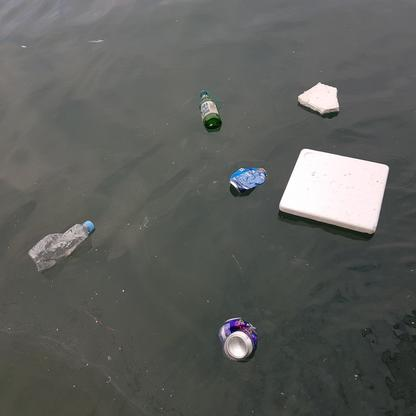can: (218, 318, 259, 360), (229, 166, 269, 193)
foam: (277, 147, 390, 235), (298, 81, 341, 116)
plastic bottle: (28, 220, 93, 272)
